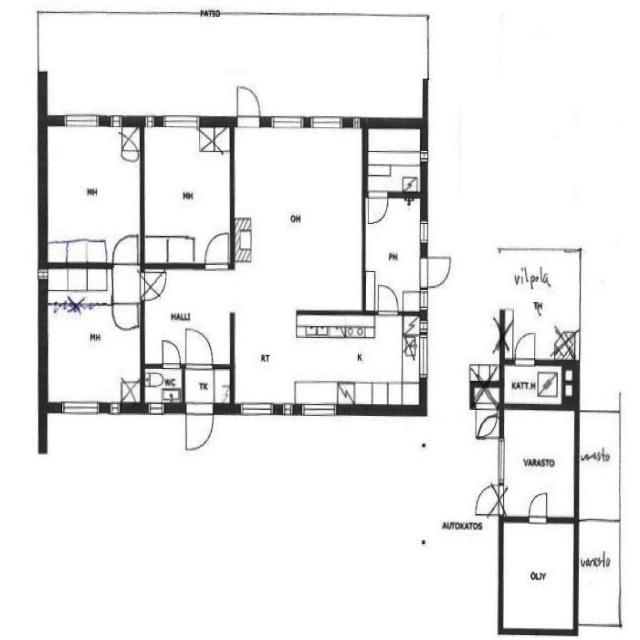door: (143, 360, 184, 408), (181, 324, 216, 373), (183, 404, 217, 454), (233, 82, 264, 131), (419, 251, 456, 291), (202, 228, 231, 271), (109, 232, 140, 269), (472, 483, 504, 517), (110, 300, 140, 335), (374, 280, 401, 318), (512, 330, 539, 368), (365, 190, 391, 227), (141, 268, 169, 302), (526, 489, 550, 524), (160, 337, 183, 369)
window: (57, 396, 105, 418), (60, 110, 104, 132), (158, 111, 203, 132), (299, 401, 340, 421), (267, 113, 307, 133), (308, 113, 346, 133), (238, 400, 276, 419), (495, 436, 508, 485), (418, 332, 430, 380), (417, 217, 430, 247), (107, 399, 123, 418), (146, 402, 166, 416)
zone: (234, 122, 363, 309), (237, 312, 428, 410), (45, 121, 142, 264), (42, 268, 141, 408), (142, 122, 232, 266), (142, 264, 234, 366), (500, 404, 578, 517), (500, 520, 576, 633), (505, 250, 581, 360), (364, 194, 424, 313), (365, 124, 425, 197), (502, 363, 568, 406), (182, 365, 232, 411), (143, 365, 184, 408)
